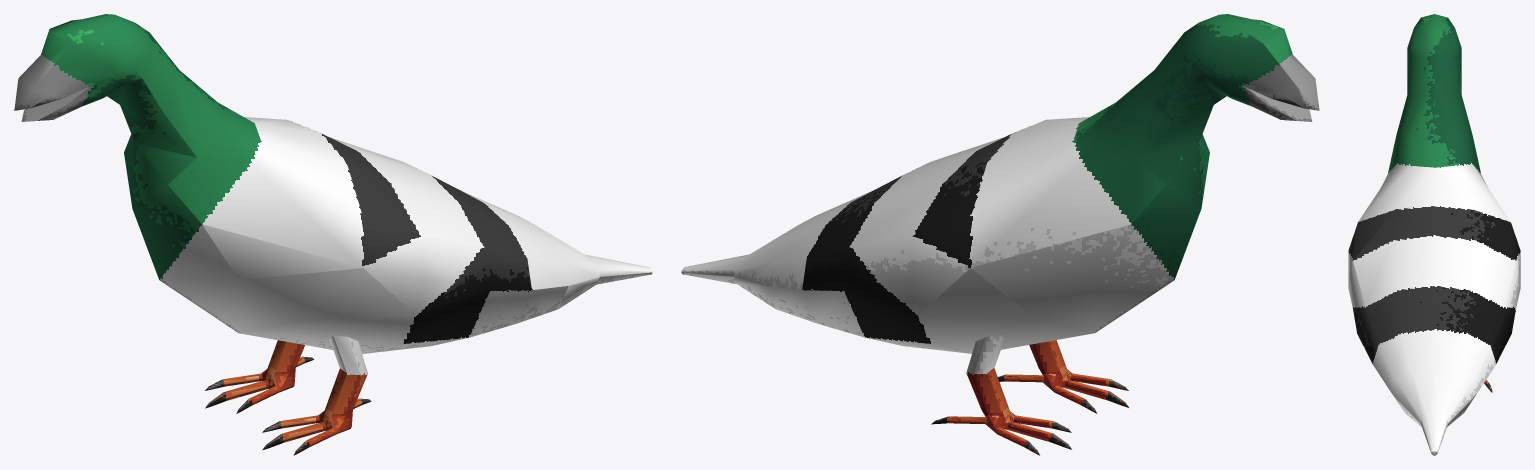
The model's file is pigeon_lp2.glb.
3 renders of one model, left to right at view 1: azimuth 30°, elevation 25°; view 2: azimuth 150°, elevation 25°; view 3: azimuth 270°, elevation 25°, orthographic. The views are drawn at different scales.
Parts seen in each view (by area): view 1: mesh; view 2: mesh; view 3: mesh.
Part boxes in pixels (x1,y1,x2,y2): mesh: (14, 14, 652, 455); mesh: (681, 14, 1319, 455); mesh: (1348, 14, 1520, 455).
Size of the model in its own units: 0.375 by 0.25 by 0.1347.
1 material, 1 textured.
